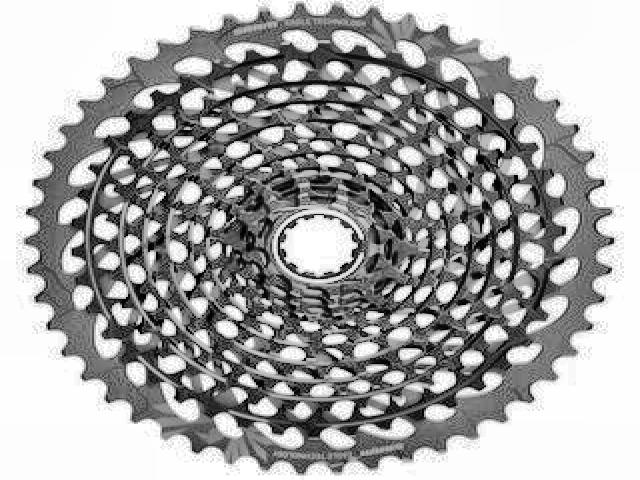cassette: (21, 1, 616, 478)
